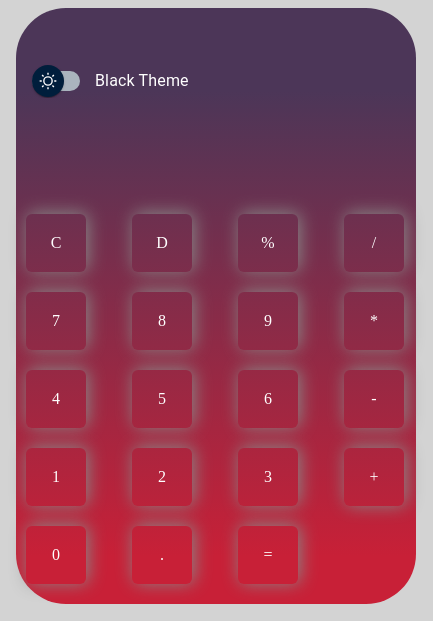
Scenario: calculator › should be able to click on digits
Click the text "2": (162,477) [132,448,192,506]
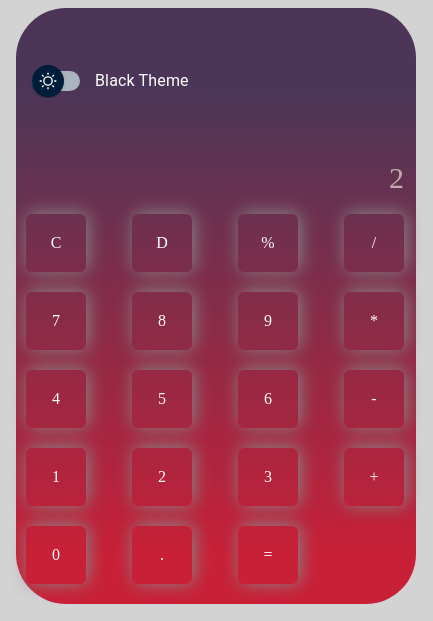
Click the text "5": (162,399) [132,370,192,428]
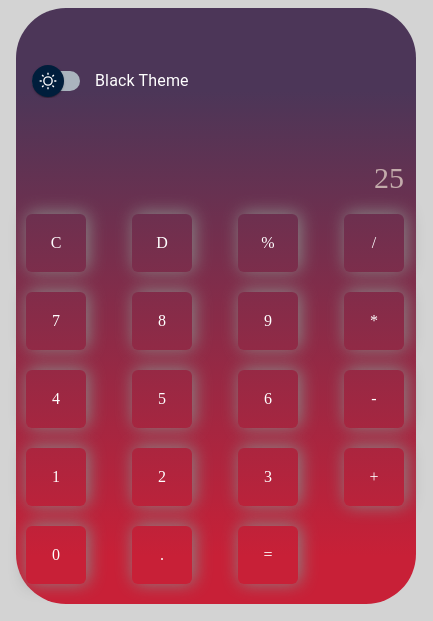
Result: the text "25" is shown at [374,161,404,194]
